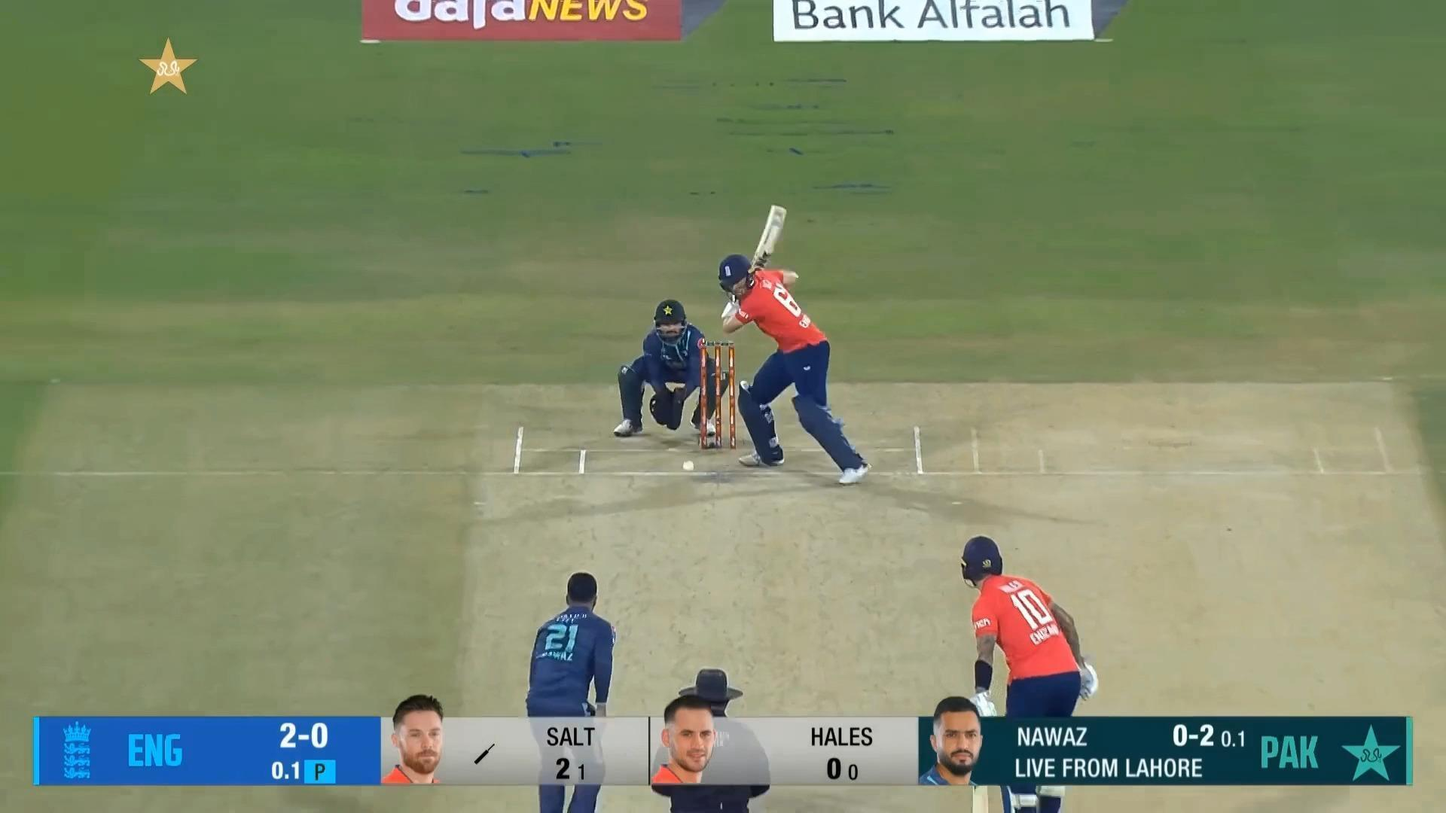BM 1: (719, 204, 873, 485)
BO: (525, 571, 616, 813)
